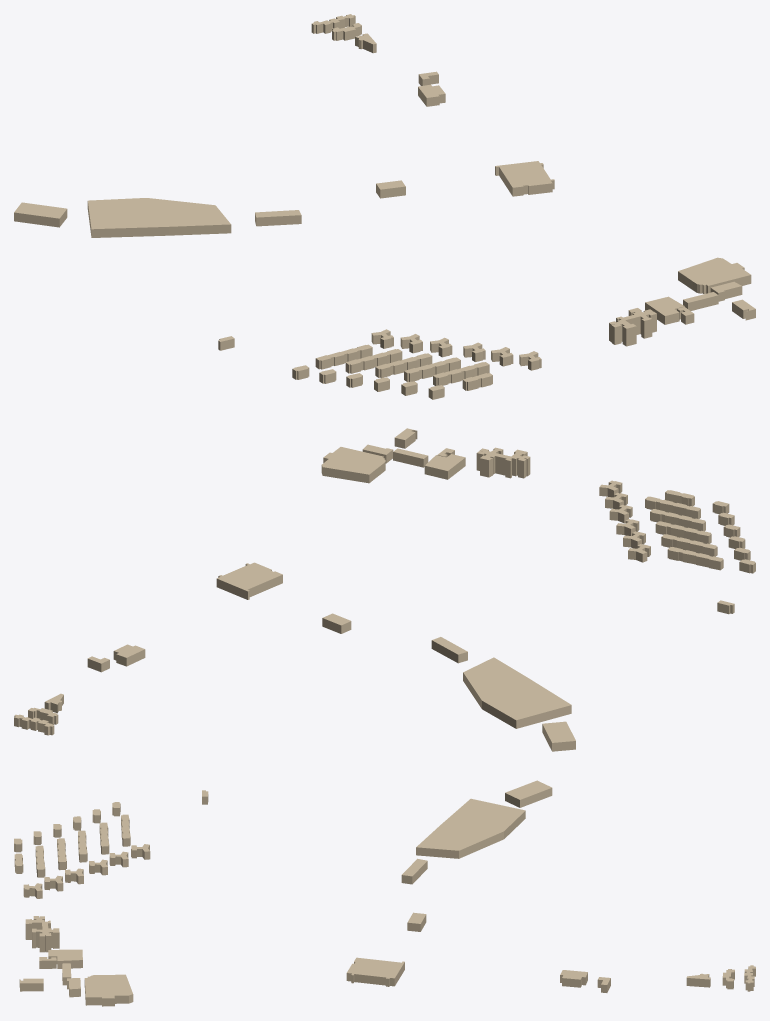
The model's file is 11_2-estimated-coarse.glb.
3 renders of one model, top to bottom at view 1: azimuth 30°, elevation 25°; view 2: azimuth 150°, elevation 25°; view 3: azimuth 270°, elevation 25°, orthographic. The views are drawn at different scales.
Size of the model in its own units: 695 by 24 by 1000.
